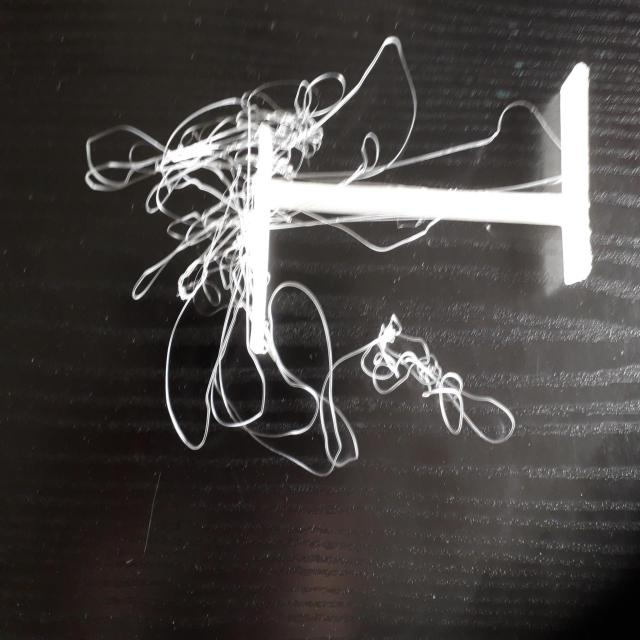spaghetti: (66, 22, 561, 477), (280, 284, 512, 520)
